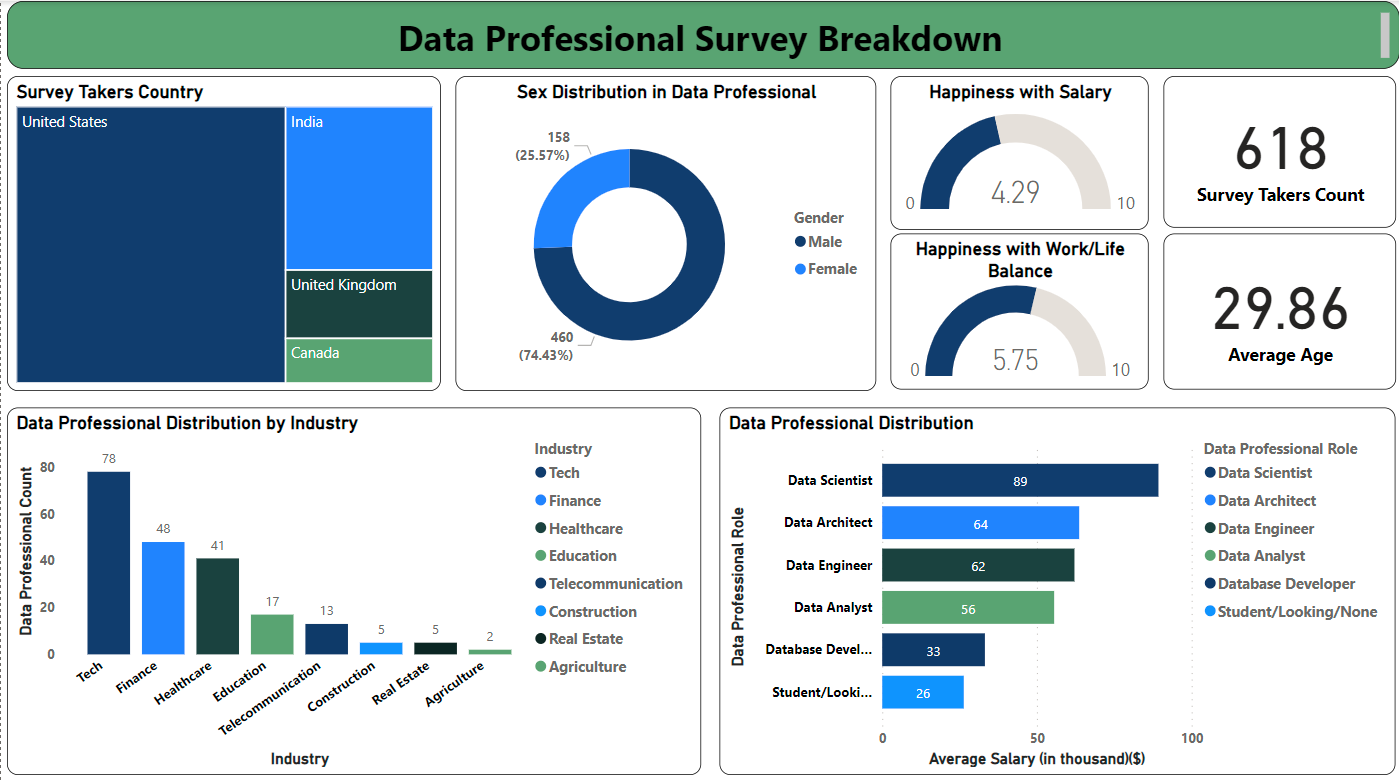

What the dashboard file says about the page in this screenshot:
{"tool":"powerbi","page":{"name":"Page 1","canvas":[1280,720],"ordinal":0},"visuals":[{"type":"barChart","title":"Data Professional Distribution ","fields":{"Category":["Data Professional Survey.Q1 - Which Title Best Fits your Current Role?.1","Data Professional Survey.Q5 - Favorite Programming Language.1"],"Y":["Avg(Data Professional Survey.Average Salary (in thousand)($))"],"Series":["Data Professional Survey.Q1 - Which Title Best Fits your Current Role?.1"]},"box":[657.2,371,617.8,336.2],"z":0},{"type":"card","fields":{"Values":["CountNonNull(Data Professional Survey.Unique ID)"]},"box":[1062.9,68.6,212.6,138.5],"z":1000},{"type":"card","fields":{"Values":["Avg(Data Professional Survey.Q10 - Current Age)"]},"box":[1062.9,212.6,212.6,142.6],"z":2000},{"type":"treemap","title":"Survey Takers Country","fields":{"Group":["Data Professional Survey.Q11 - Which Country do you live in?.1"],"Values":["CountNonNull(Data Professional Survey.Q1 - Which Title Best Fits your Current Role?.1)"]},"box":[6.1,68.1,396.7,287.7],"z":3000},{"type":"textbox","box":[6.1,0,1273.4,62.1],"z":4000},{"type":"columnChart","title":"Data Professional Distribution by Industry ","fields":{"Category":["Data Professional Survey.Q4 - What Industry do you work in?.1"],"Series":["Data Professional Survey.Q4 - What Industry do you work in?.1"],"Y":["CountNonNull(Data Professional Survey.Unique ID)"]},"box":[6.1,371,634.5,336.2],"z":5000},{"type":"gauge","title":"Happiness with Salary","fields":{"Y":["Avg(Data Professional Survey.Q6 - How Happy are you in your Current Position with the following? (Salary))"],"MinValue":["Min(Data Professional Survey.Q6 - How Happy are you in your Current Position with the following? (Salary))1"],"MaxValue":["Max(Data Professional Survey.Q6 - How Happy are you in your Current Position with the following? (Salary))2"]},"box":[813.1,68.1,236.2,140.8],"z":6000},{"type":"gauge","title":"Happiness with Work/Life Balance ","fields":{"Y":["Avg(Data Professional Survey.Q6 - How Happy are you in your Current Position with the following? (Work/Life Balance))"],"MinValue":["Min(Data Professional Survey.Q6 - How Happy are you in your Current Position with the following? (Work/Life Balance))"],"MaxValue":["Max(Data Professional Survey.Q6 - How Happy are you in your Current Position with the following? (Work/Life Balance))"]},"box":[813.1,212,236.2,142.3],"z":7000},{"type":"donutChart","title":"Sex Distribution in Data Professional ","fields":{"Category":["Data Professional Survey.Q9 - Male/Female?"],"Y":["CountNonNull(Data Professional Survey.Unique ID)"]},"box":[414.9,68.1,384.6,287.7],"z":8000}]}

Visuals, with their boxes in screenshot pixels (x1, y1, x2, y2), scaled from the page's 1280x720 canvas onto the 1399x783 screenshot:
"Data Professional Distribution " barChart: bbox(718, 403, 1394, 769)
card - CountNonNull(Data Professional Survey.Unique ID): bbox(1162, 75, 1394, 225)
card - Avg(Data Professional Survey.Q10 - Current Age): bbox(1162, 231, 1394, 386)
"Survey Takers Country" treemap: bbox(7, 74, 440, 387)
textbox: bbox(7, 0, 1398, 68)
"Data Professional Distribution by Industry " columnChart: bbox(7, 403, 700, 769)
"Happiness with Salary" gauge: bbox(889, 74, 1147, 227)
"Happiness with Work/Life Balance " gauge: bbox(889, 231, 1147, 385)
"Sex Distribution in Data Professional " donutChart: bbox(453, 74, 874, 387)
